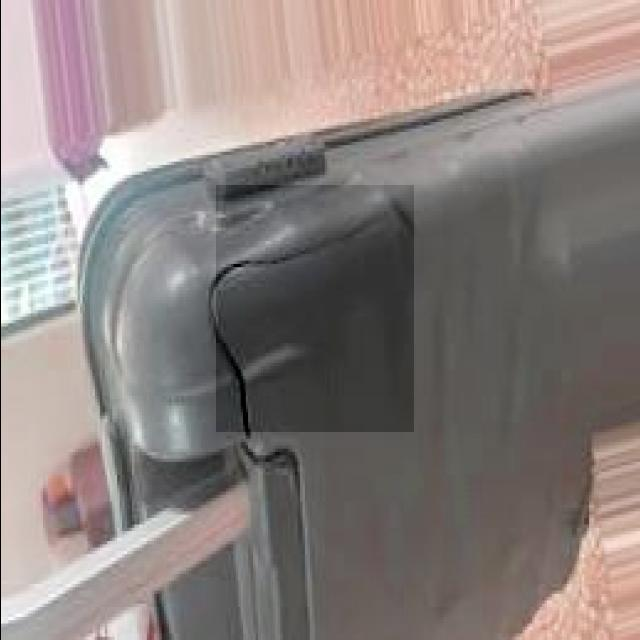Bag: (1, 83, 638, 640)
Handle: (0, 488, 267, 640)
